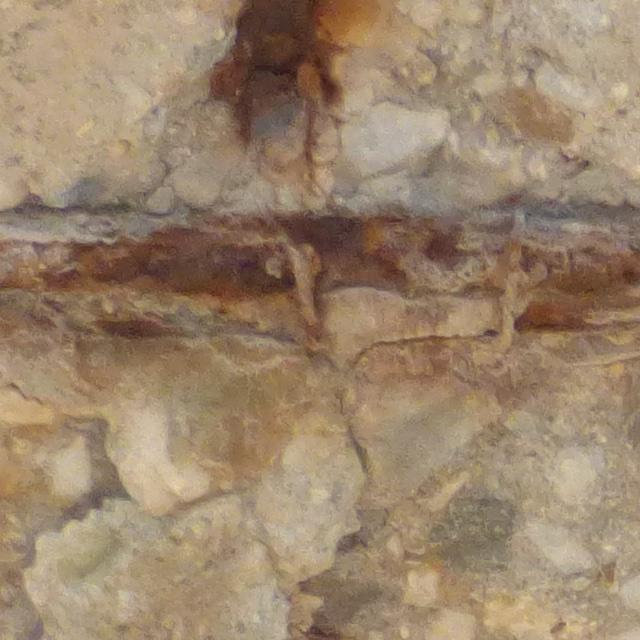Rust: (3, 219, 637, 322), (204, 1, 336, 134)
